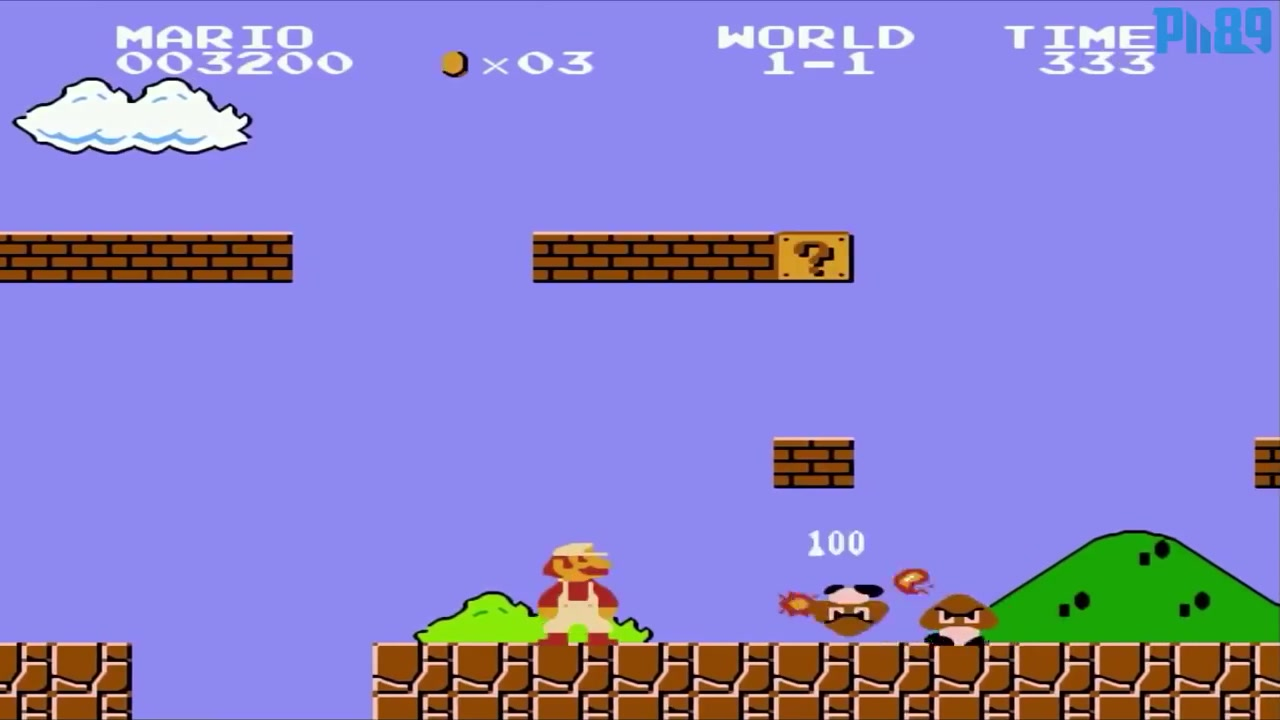mario: (529, 536, 619, 647)
